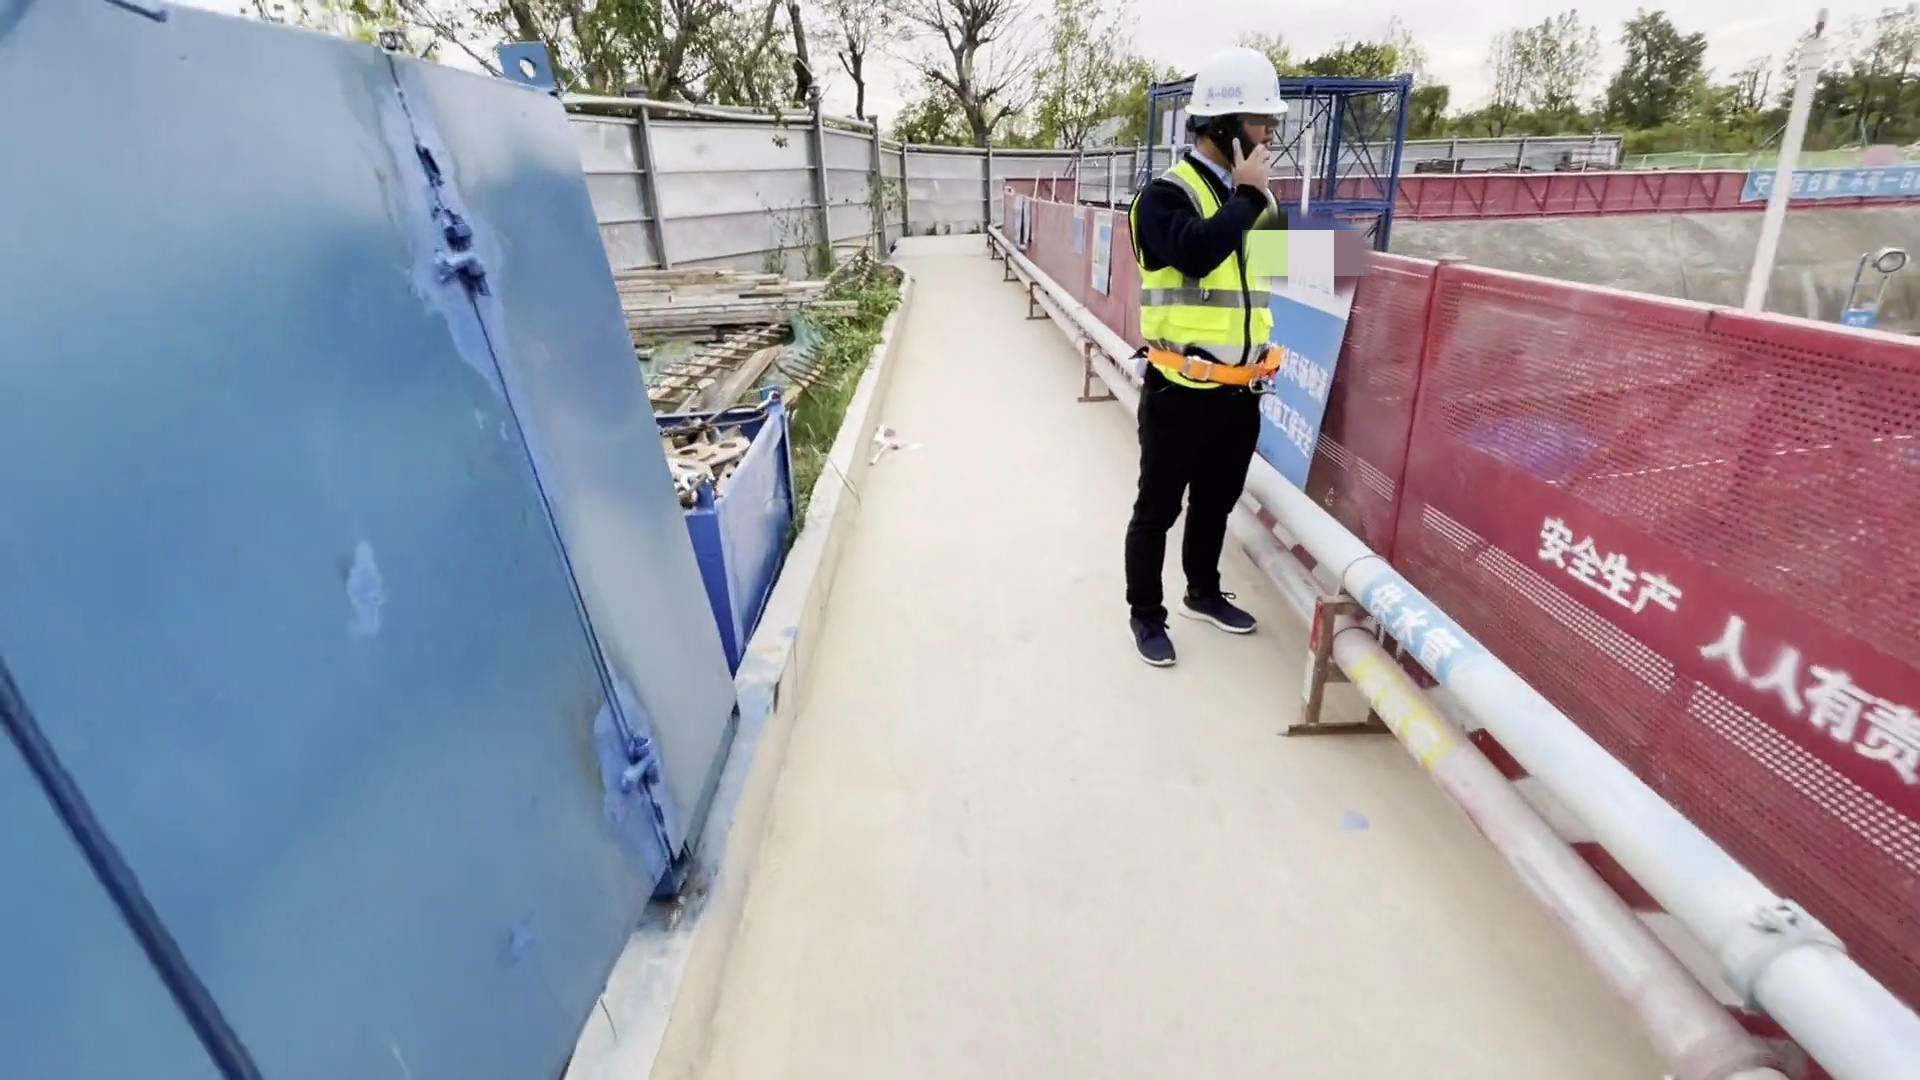fence: (1306, 234, 1898, 953), (1395, 159, 1920, 223), (974, 163, 1124, 335)
helmet: (1184, 27, 1306, 131)
hopper: (545, 356, 844, 613)
person: (1117, 32, 1277, 667)
slogan: (1269, 287, 1347, 482), (1739, 163, 1920, 207), (1059, 204, 1120, 303), (1005, 191, 1044, 252)
vest: (1121, 143, 1311, 406)
wood: (620, 241, 881, 354)
